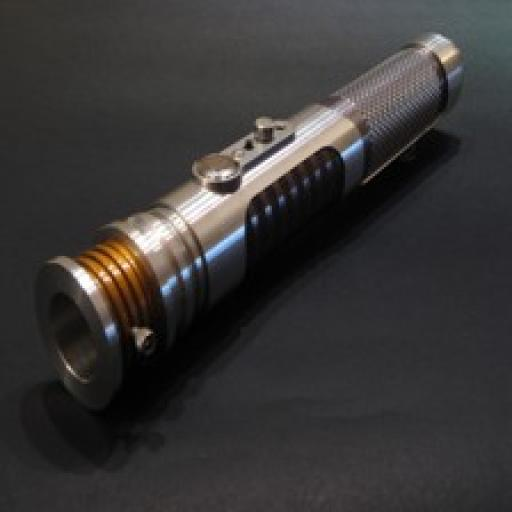lightsaber: (30, 31, 464, 412)
